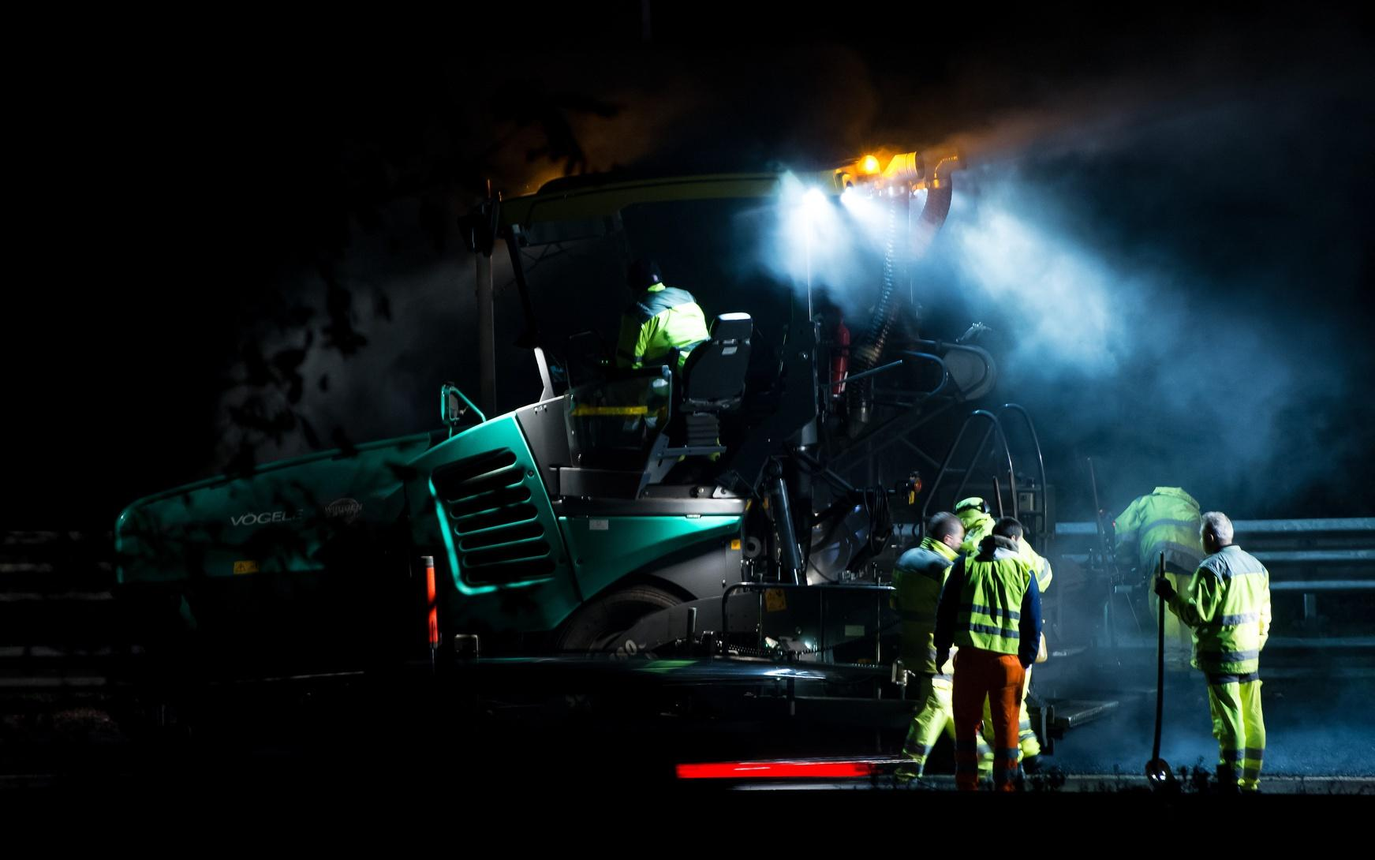NoHelmet: (1199, 511, 1235, 548), (993, 515, 1024, 547)
Vest: (1193, 550, 1268, 673), (960, 551, 1033, 652)
